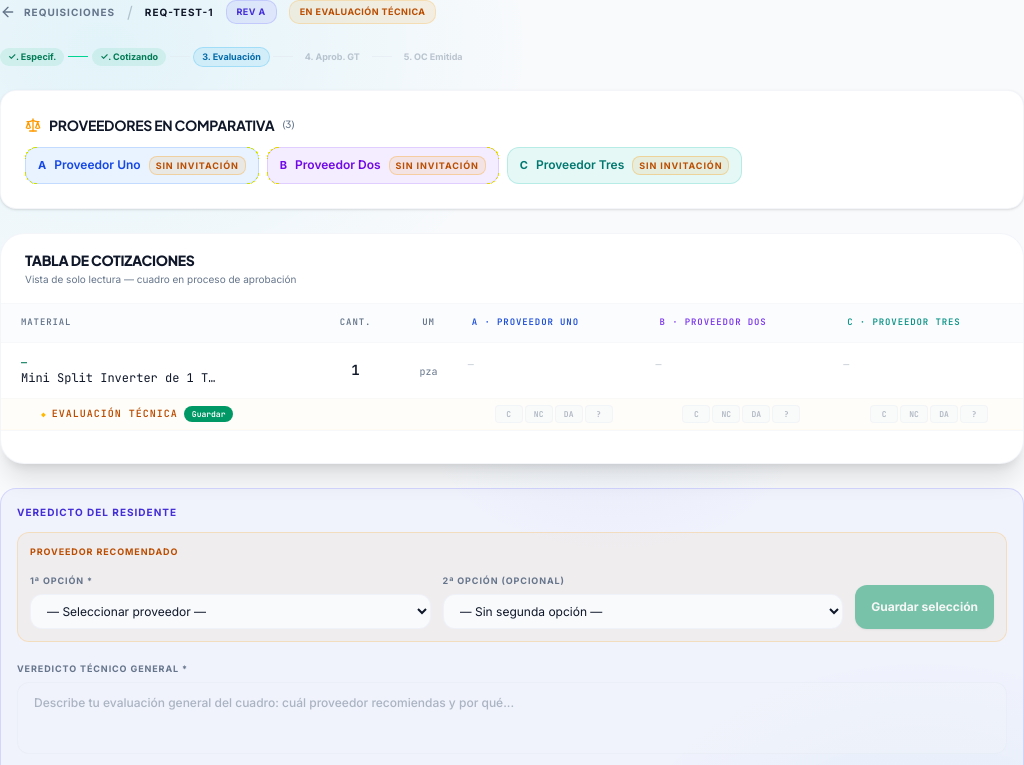
ComparativaDetail — evaluación técnica inline en Tabla de Cotizaciones › marcar "?" oculta el guardado individual de esa línea y muestra el botón agregado
Check: the text "Mini Split Inverter de 1 Tonelada" is shown, box [21,370,221,386]
Check: the button with test id "eval-guardar-linea-linea-1" is shown, box [184,406,233,422]
Click the 1st button "?" at x=599, y=414, box [585,404,613,422]
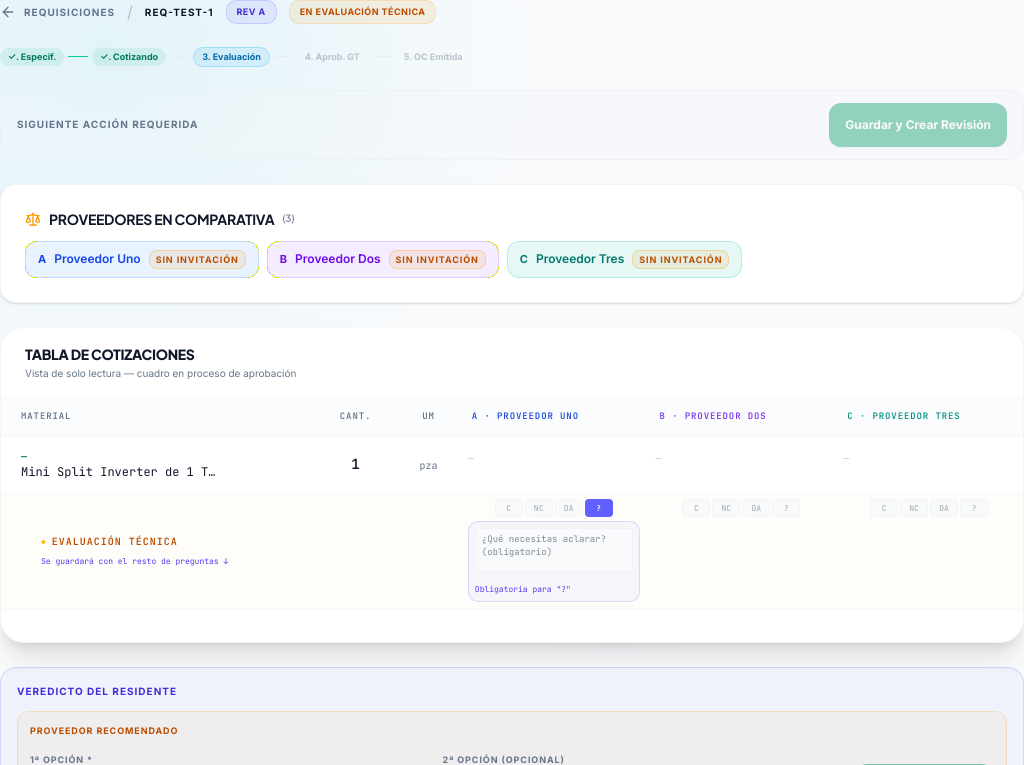
Check: the button with test id "eval-guardar-linea-linea-1" is gone
Check: the button with test id "eval-guardar-agregado" is shown, box [829,102,1007,146]
